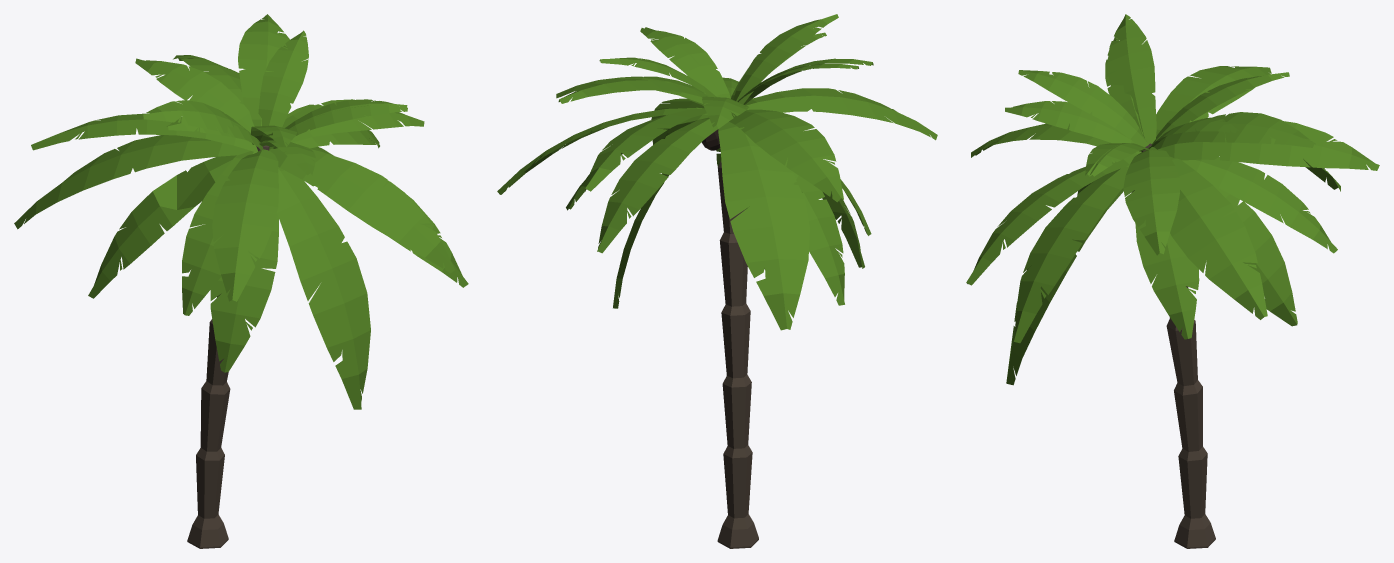
The model's file is Palmera1.fbx.
3 views of the same model, side by side, from view 1: azimuth 30°, elevation 25°; view 2: azimuth 150°, elevation 25°; view 3: azimuth 270°, elevation 25° (orthographic).
Visible parts, largest first — view 1: Palmera_1; view 2: Palmera_1; view 3: Palmera_1.
Boxes of the visible parts, x1,y1,x2,y2 form: Palmera_1: [14, 14, 468, 548]; Palmera_1: [497, 14, 937, 548]; Palmera_1: [966, 14, 1379, 548].
Bounding box in the file's own units: 1725 × 2267 × 1778.
